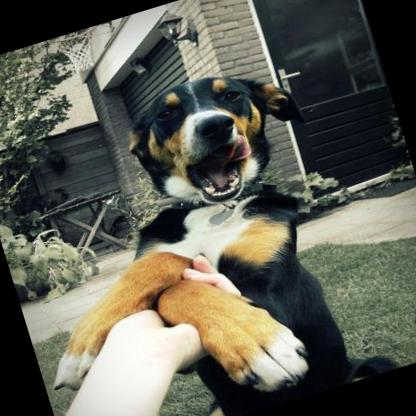Appenzeller: (0, 44, 400, 416)
